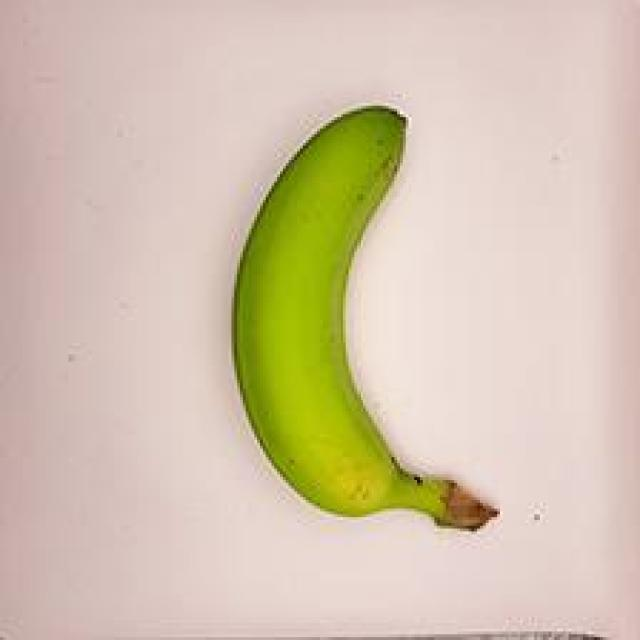Unripe: (217, 91, 519, 551)
